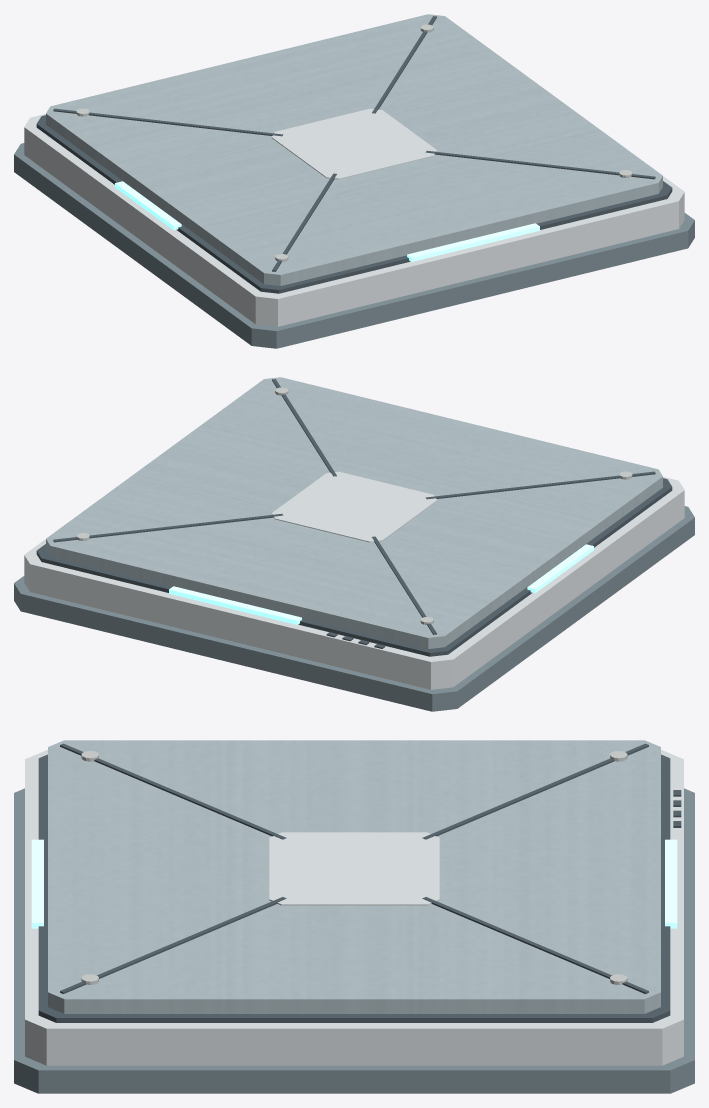
File: m02-metal-quarter-nw.glb
3 views of the same model, one above another, from view 1: azimuth 30°, elevation 25°; view 2: azimuth 150°, elevation 25°; view 3: azimuth 270°, elevation 25° (orthographic). The views are drawn at different scales.
Parts seen in each view (by area): view 1: quarter-nw/003, quarter-nw/001, quarter-nw/000, quarter-nw/004, quarter-nw/002, quarter-nw/014, quarter-nw/015, quarter-nw/008, quarter-nw/005; view 2: quarter-nw/003, quarter-nw/001, quarter-nw/000, quarter-nw/004, quarter-nw/002, quarter-nw/013, quarter-nw/015, quarter-nw/007, quarter-nw/006; view 3: quarter-nw/003, quarter-nw/001, quarter-nw/000, quarter-nw/004, quarter-nw/002, quarter-nw/013, quarter-nw/014, quarter-nw/007, quarter-nw/008, quarter-nw/005, quarter-nw/006.
Part boxes in pixels (<box>): quarter-nw/003: <box>46,14,662,285</box>; quarter-nw/001: <box>24,114,684,326</box>; quarter-nw/000: <box>14,143,694,348</box>; quarter-nw/004: <box>271,108,437,179</box>; quarter-nw/002: <box>36,115,672,293</box>; quarter-nw/014: <box>407,223,539,261</box>; quarter-nw/015: <box>115,181,181,230</box>; quarter-nw/008: <box>425,150,655,179</box>; quarter-nw/005: <box>53,108,283,136</box>; quarter-nw/003: <box>46,377,662,648</box>; quarter-nw/001: <box>24,477,684,689</box>; quarter-nw/000: <box>14,506,694,711</box>; quarter-nw/004: <box>271,471,437,542</box>; quarter-nw/002: <box>36,478,672,656</box>; quarter-nw/013: <box>169,586,301,624</box>; quarter-nw/015: <box>527,544,593,593</box>; quarter-nw/007: <box>53,513,283,542</box>; quarter-nw/006: <box>425,471,655,499</box>; quarter-nw/003: <box>48,740,660,1013</box>; quarter-nw/001: <box>25,750,683,1065</box>; quarter-nw/000: <box>14,788,694,1093</box>; quarter-nw/004: <box>269,832,439,905</box>; quarter-nw/002: <box>38,754,670,1022</box>; quarter-nw/013: <box>665,839,677,928</box>; quarter-nw/014: <box>31,839,43,928</box>; quarter-nw/007: <box>422,897,648,993</box>; quarter-nw/008: <box>60,897,286,993</box>; quarter-nw/005: <box>422,743,648,839</box>; quarter-nw/006: <box>60,743,286,839</box>.
Bounding box in the file's own units: 0.5 × 0.0678 × 0.5.
6 materials, 1 textured.
